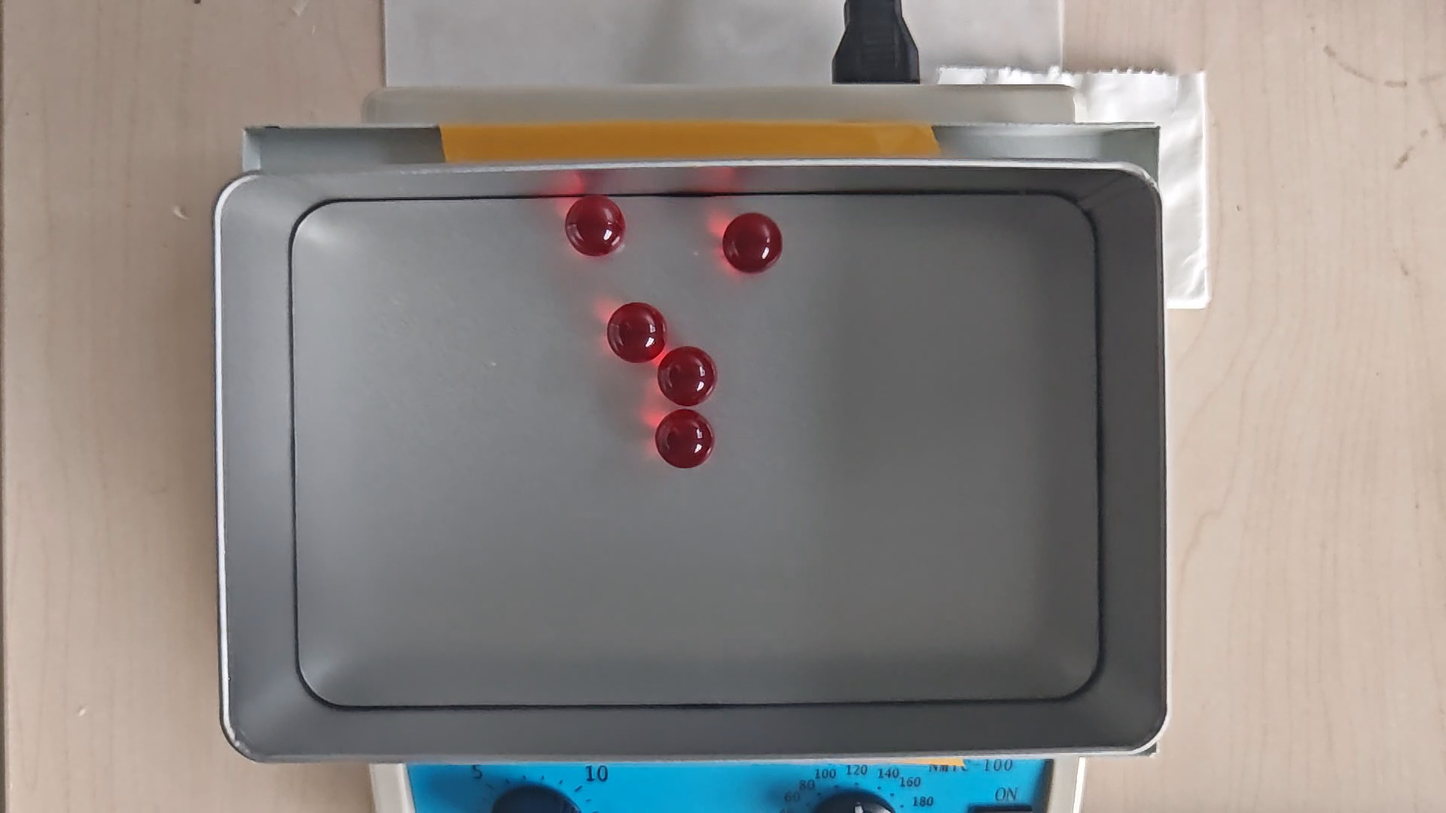ball: (722, 212, 784, 273), (565, 196, 626, 257), (607, 302, 667, 364), (657, 347, 717, 407), (656, 409, 714, 470)
container: (288, 195, 1103, 705)
